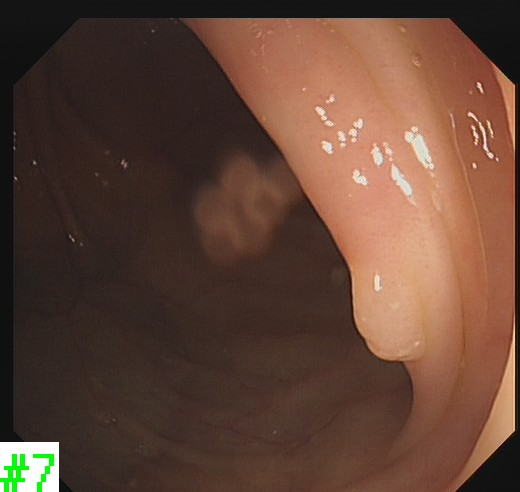adenoma: (348, 260, 428, 363)
